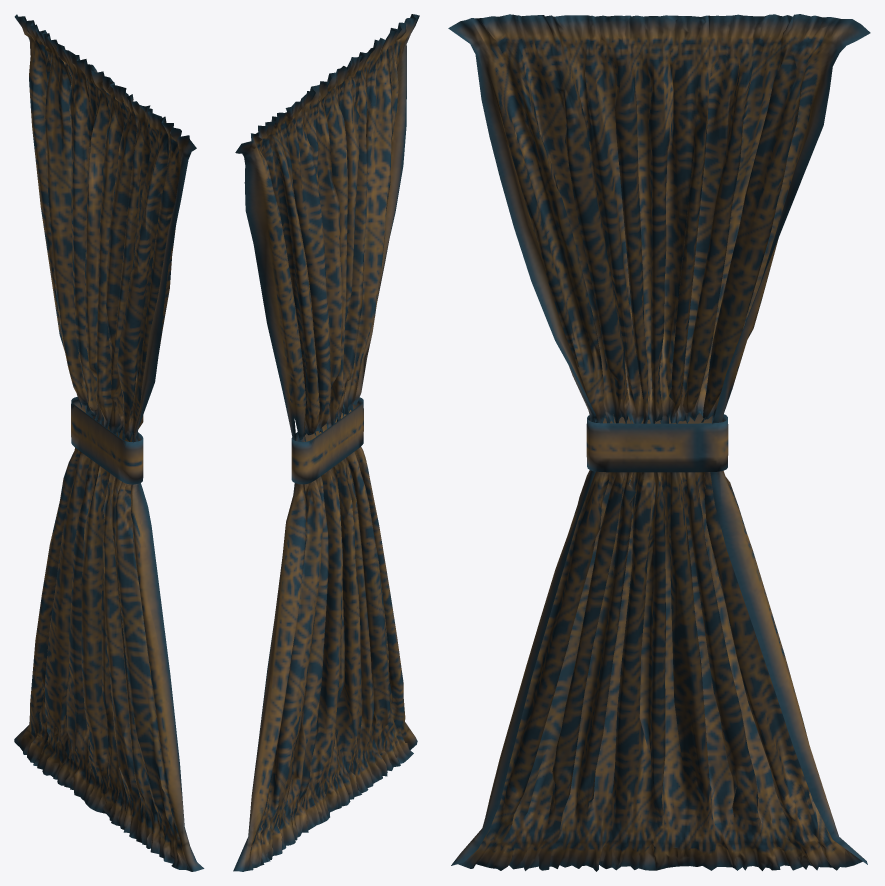
The model's file is SM_CurtainButterfly.fbx.
The picture shows the model from 3 angles, left to right: view 1: azimuth 30°, elevation 25°; view 2: azimuth 150°, elevation 25°; view 3: azimuth 270°, elevation 25°; orthographic projection. The views are drawn at different scales.
Parts seen in each view (by area): view 1: SM_CurtainButterfly_LOD0; view 2: SM_CurtainButterfly_LOD0; view 3: SM_CurtainButterfly_LOD0.
Part boxes in pixels (x1,y1,x2,y2): SM_CurtainButterfly_LOD0: [14, 14, 204, 871]; SM_CurtainButterfly_LOD0: [233, 14, 419, 871]; SM_CurtainButterfly_LOD0: [448, 14, 870, 871].
Size of the model in its own units: 19.38 by 173 by 386.
1 material, 1 textured.
